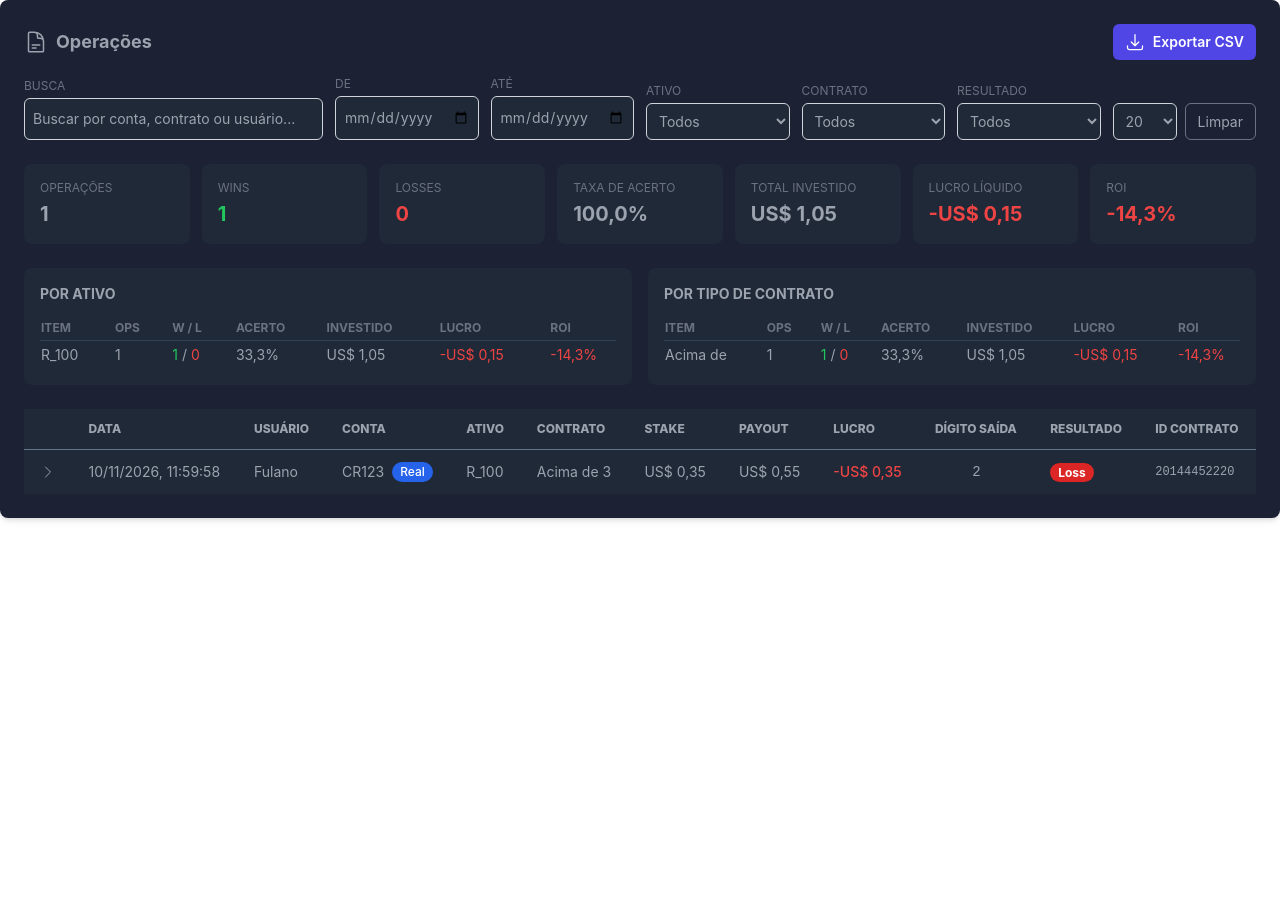
Scenario: OperationsPage › expands a row to show the contract details and audit ticks
Click the row with test id "operation-row-1" at (154, 472), box [24, 450, 1256, 494]
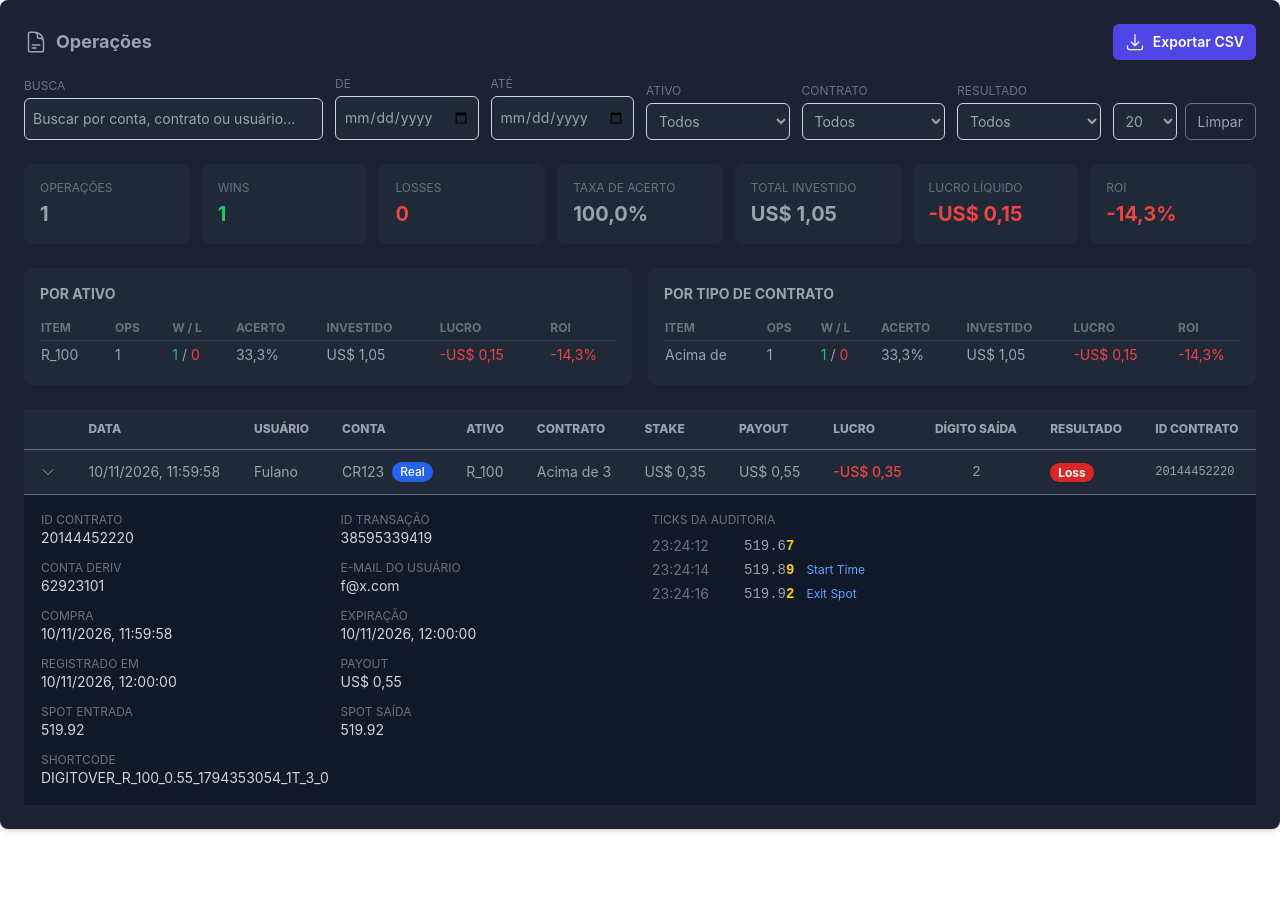
expect the element with test id "operation-details-1" shows "38595339419": met, box [340, 529, 432, 546]
expect the element with test id "operation-details-1" shows "DIGITOVER_R_100_0.55_1794353054_1T_3_0": met, box [41, 769, 329, 786]
expect the element with test id "operation-details-1" shows "519.89": met, box [41, 512, 865, 786]
